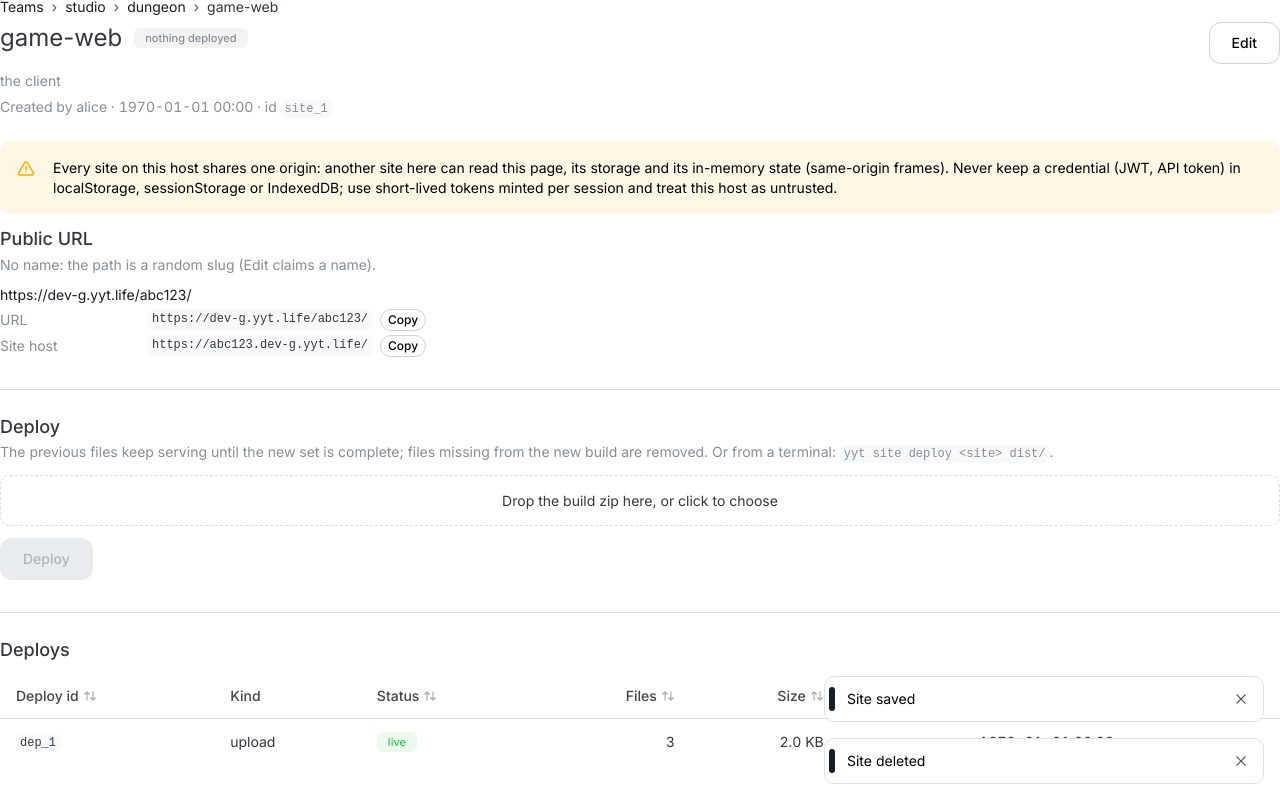
SitePage › shows the Domain field with the host suffix and the move note
Click the button "Edit" at {"x": 1244, "y": 43}, box [1209, 22, 1279, 64]
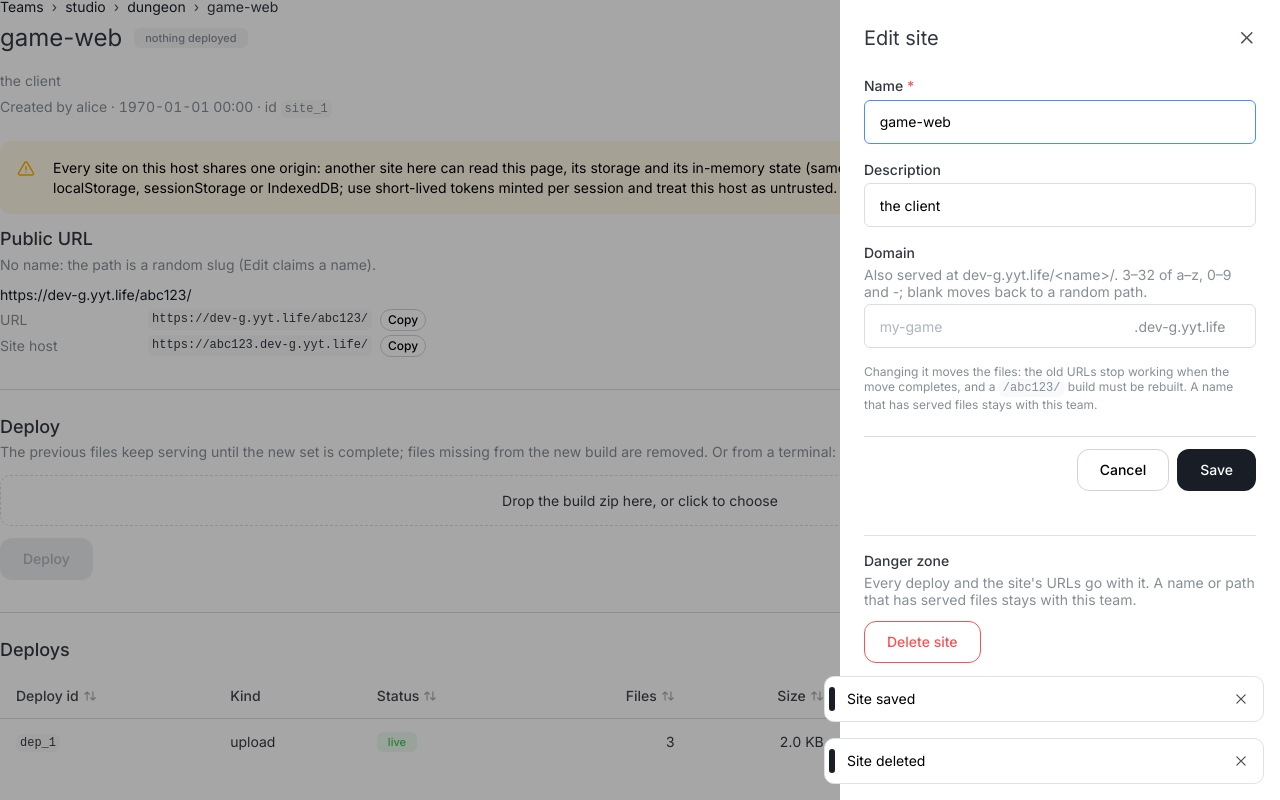
Result: the field labelled "Domain" is empty at [864, 304, 1256, 348]
Result: the text ".dev-g.yyt.life" is shown at [1134, 318, 1226, 335]
Result: the text "Also served at dev-g.yyt.life/<name>/" is shown at [864, 266, 1232, 300]
